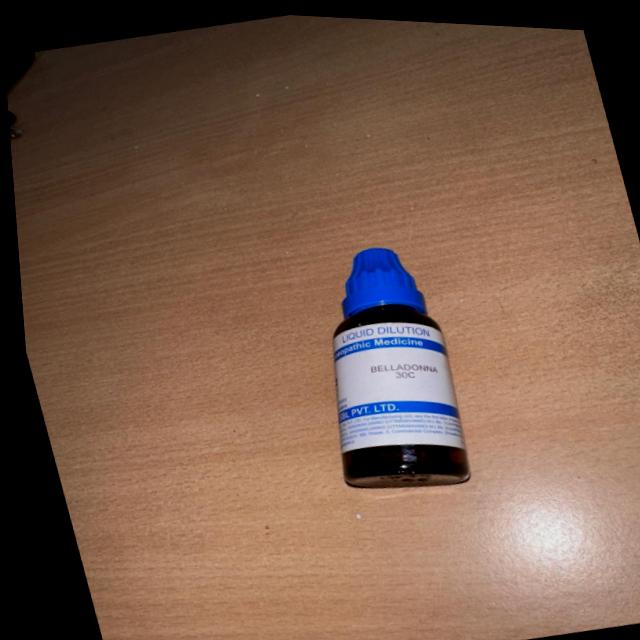medicine: (302, 222, 491, 495)
